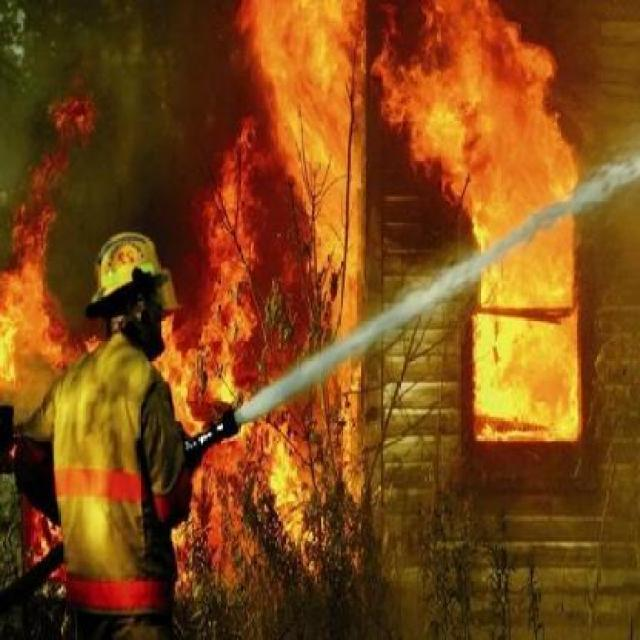Fire: (189, 0, 602, 479)
Smoke: (18, 1, 234, 302)
